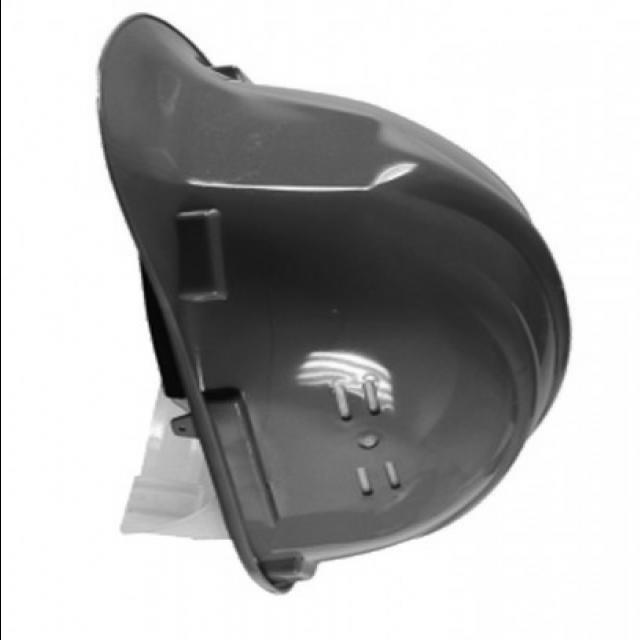safety_helmet: (94, 12, 569, 596)
